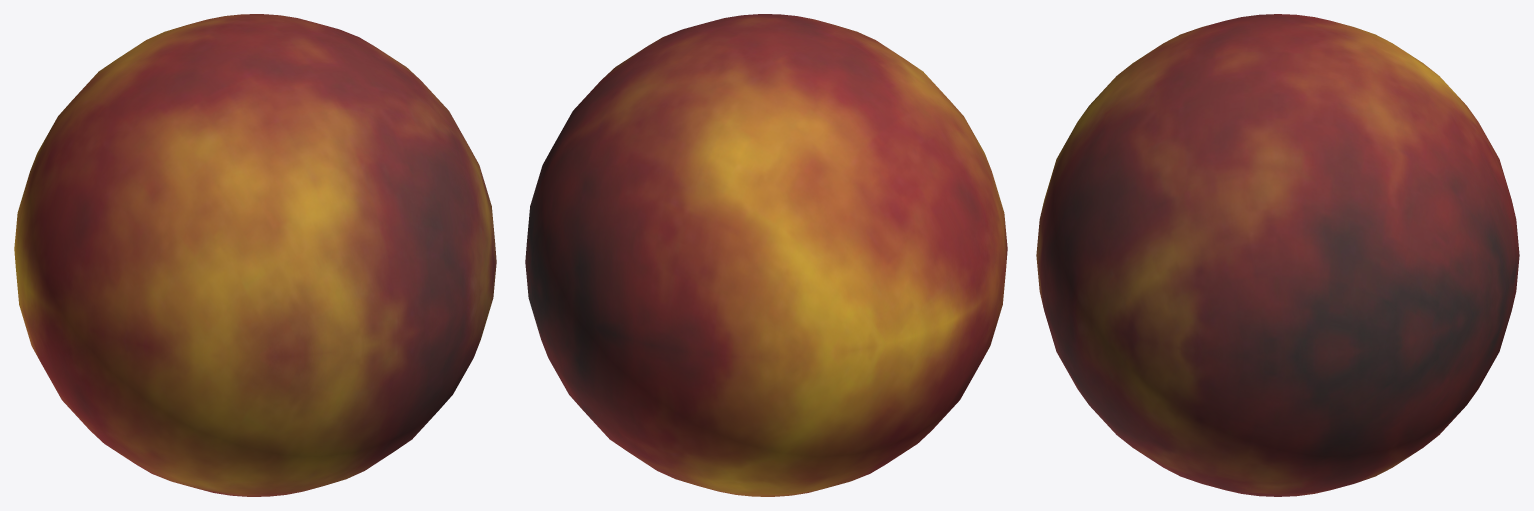
The model's file is Fire_planet_2.FBX.
3 renders of one model, left to right at view 1: azimuth 30°, elevation 25°; view 2: azimuth 150°, elevation 25°; view 3: azimuth 270°, elevation 25°, orthographic.
Parts seen in each view (by area): view 1: Fire_Planet_2; view 2: Fire_Planet_2; view 3: Fire_Planet_2.
Part boxes in pixels (x1,y1,x2,y2): Fire_Planet_2: [14, 14, 496, 496]; Fire_Planet_2: [525, 14, 1007, 496]; Fire_Planet_2: [1036, 14, 1519, 496].
Bounding box in the file's own units: 69.73 × 69.73 × 69.73.
